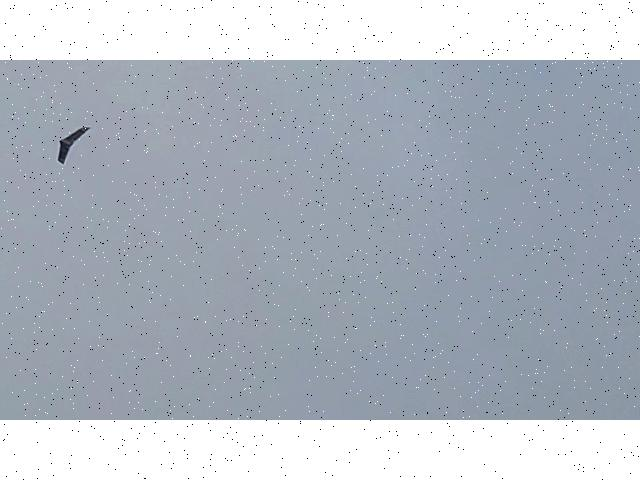Anti-Drone: (56, 125, 92, 164)
